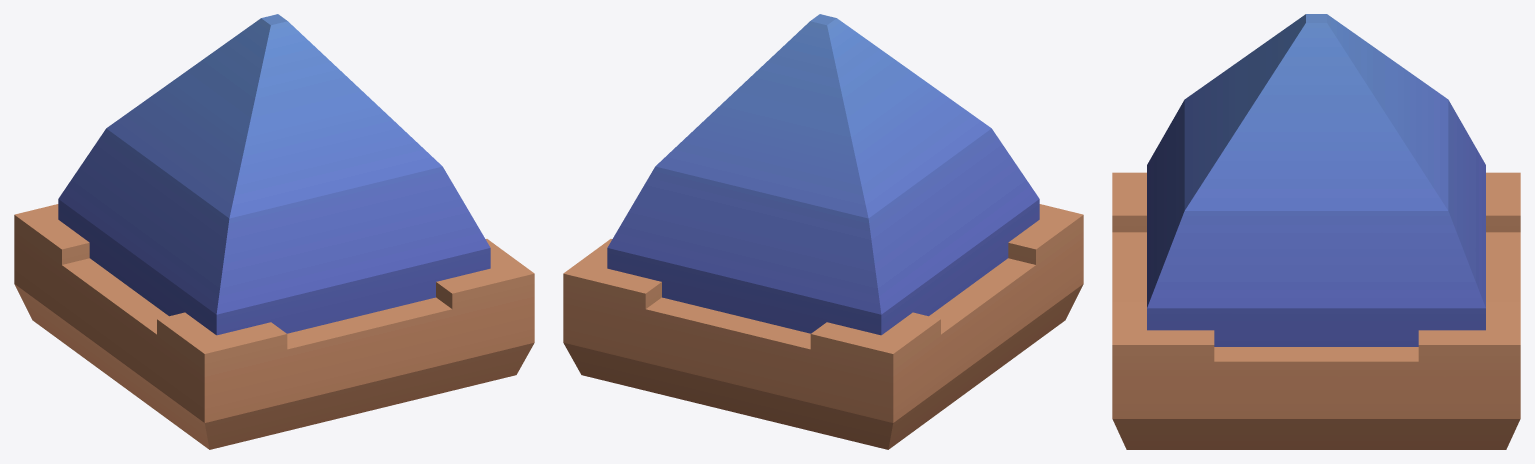
Rendered from tower-square-top-roof-rounded.glb.
3 renders of one model, left to right at view 1: azimuth 30°, elevation 25°; view 2: azimuth 150°, elevation 25°; view 3: azimuth 270°, elevation 25°, orthographic. The views are drawn at different scales.
Visible parts, largest first — view 1: tower-square-top-roof-rounded; view 2: tower-square-top-roof-rounded; view 3: tower-square-top-roof-rounded.
Boxes of the visible parts, x1=… form: tower-square-top-roof-rounded: x1=14, y1=14, x2=534, y2=449; tower-square-top-roof-rounded: x1=563, y1=14, x2=1083, y2=449; tower-square-top-roof-rounded: x1=1112, y1=14, x2=1520, y2=449.
Size of the model in its own units: 1 by 0.9499 by 1.
1 material, 1 textured.
